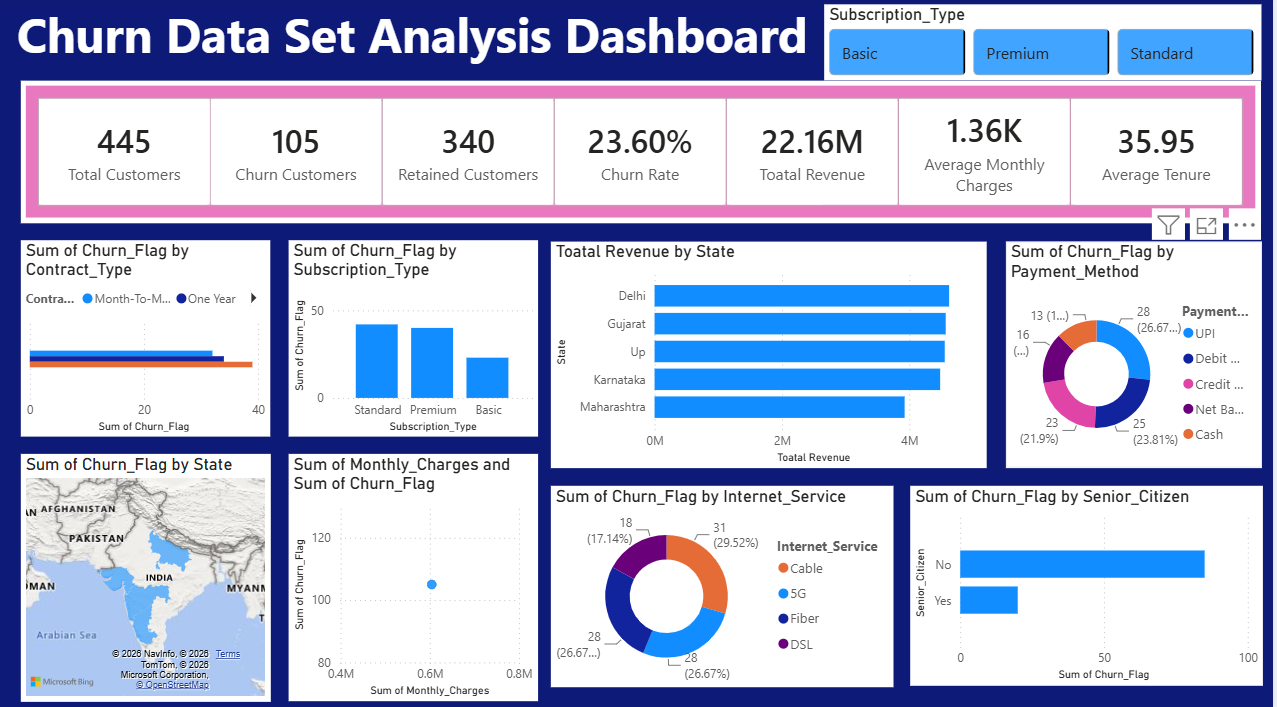

This screenshot's page, from the dashboard's own definition file:
{"tool":"powerbi","page":{"name":"Page 1","canvas":[1280,720],"ordinal":0},"visuals":[{"type":"cardVisual","fields":{"Data":["Dax Measure.Total Customers","Dax Measure.Churn Customers","Dax Measure.Retained Customers","Dax Measure.Churn Rate","Dax Measure.Toatal Revenue","Dax Measure.Average Monthly Charges","Dax Measure.Average Tenure"]},"box":[20.9,85.1,1247.1,143.7],"z":0},{"type":"textbox","box":[0,0,829,113.7],"z":1000},{"type":"clusteredBarChart","fields":{"Series":["Clean_Churn_Data.Contract_Type"],"Y":["Sum(Clean_Churn_Data.Churn_Flag)"]},"box":[21.4,245.6,250.5,197.8],"z":2000},{"type":"columnChart","fields":{"Category":["Clean_Churn_Data.Subscription_Type"],"Y":["Sum(Clean_Churn_Data.Churn_Flag)"]},"box":[290.1,245.6,250.5,197.8],"z":3000},{"type":"filledMap","fields":{"Category":["Clean_Churn_Data.State"]},"box":[21.4,459.8,250.5,248.9],"z":4000},{"type":"scatterChart","fields":{"X":["Sum(Clean_Churn_Data.Monthly_Charges)"],"Y":["Sum(Clean_Churn_Data.Churn_Flag)"]},"box":[290.1,459.8,250.5,248.9],"z":5000},{"type":"barChart","fields":{"Y":["Dax Measure.Toatal Revenue"],"Category":["Clean_Churn_Data.State"]},"box":[553.8,247.2,438.4,227.5],"z":6000},{"type":"donutChart","fields":{"Y":["Sum(Clean_Churn_Data.Churn_Flag)"],"Category":["Clean_Churn_Data.Internet_Service"]},"box":[553.8,492.8,344.5,202.7],"z":7000},{"type":"donutChart","fields":{"Y":["Sum(Clean_Churn_Data.Churn_Flag)"],"Category":["Clean_Churn_Data.Payment_Method"]},"box":[1012,247.2,257.1,227.5],"z":8000},{"type":"barChart","fields":{"Y":["Sum(Clean_Churn_Data.Churn_Flag)"],"Category":["Clean_Churn_Data.Senior_Citizen"]},"box":[915.1,492.4,354.3,200.9],"z":9000},{"type":"advancedSlicerVisual","fields":{"Values":["Clean_Churn_Data.Subscription_Type"]},"box":[828.6,8.4,439.4,76.7],"z":10000}]}

Visuals, with their boxes in screenshot pixels (x1, y1, x2, y2), scaled from the page's 1280x720 canvas onto the 1277x707 screenshot:
cardVisual - Dax Measure.Total Customers x Dax Measure.Churn Customers: <region>21, 84, 1265, 225</region>
textbox: <region>0, 0, 827, 112</region>
clusteredBarChart - Clean_Churn_Data.Contract_Type x Sum(Clean_Churn_Data.Churn_Flag): <region>21, 241, 271, 435</region>
columnChart - Clean_Churn_Data.Subscription_Type x Sum(Clean_Churn_Data.Churn_Flag): <region>289, 241, 539, 435</region>
filledMap - Clean_Churn_Data.State: <region>21, 451, 271, 696</region>
scatterChart - Sum(Clean_Churn_Data.Monthly_Charges) x Sum(Clean_Churn_Data.Churn_Flag): <region>289, 451, 539, 696</region>
barChart - Dax Measure.Toatal Revenue x Clean_Churn_Data.State: <region>553, 243, 990, 466</region>
donutChart - Sum(Clean_Churn_Data.Churn_Flag) x Clean_Churn_Data.Internet_Service: <region>553, 484, 896, 683</region>
donutChart - Sum(Clean_Churn_Data.Churn_Flag) x Clean_Churn_Data.Payment_Method: <region>1010, 243, 1266, 466</region>
barChart - Sum(Clean_Churn_Data.Churn_Flag) x Clean_Churn_Data.Senior_Citizen: <region>913, 484, 1266, 681</region>
advancedSlicerVisual - Clean_Churn_Data.Subscription_Type: <region>827, 8, 1265, 84</region>
